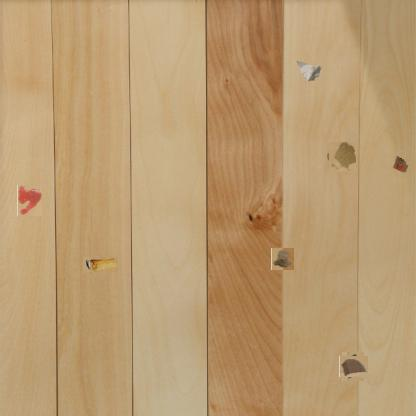dirty: (294, 59, 322, 83), (341, 354, 366, 379), (82, 256, 118, 272), (271, 248, 294, 270), (392, 153, 412, 175)
liquid: (327, 143, 356, 172), (17, 184, 42, 216)
